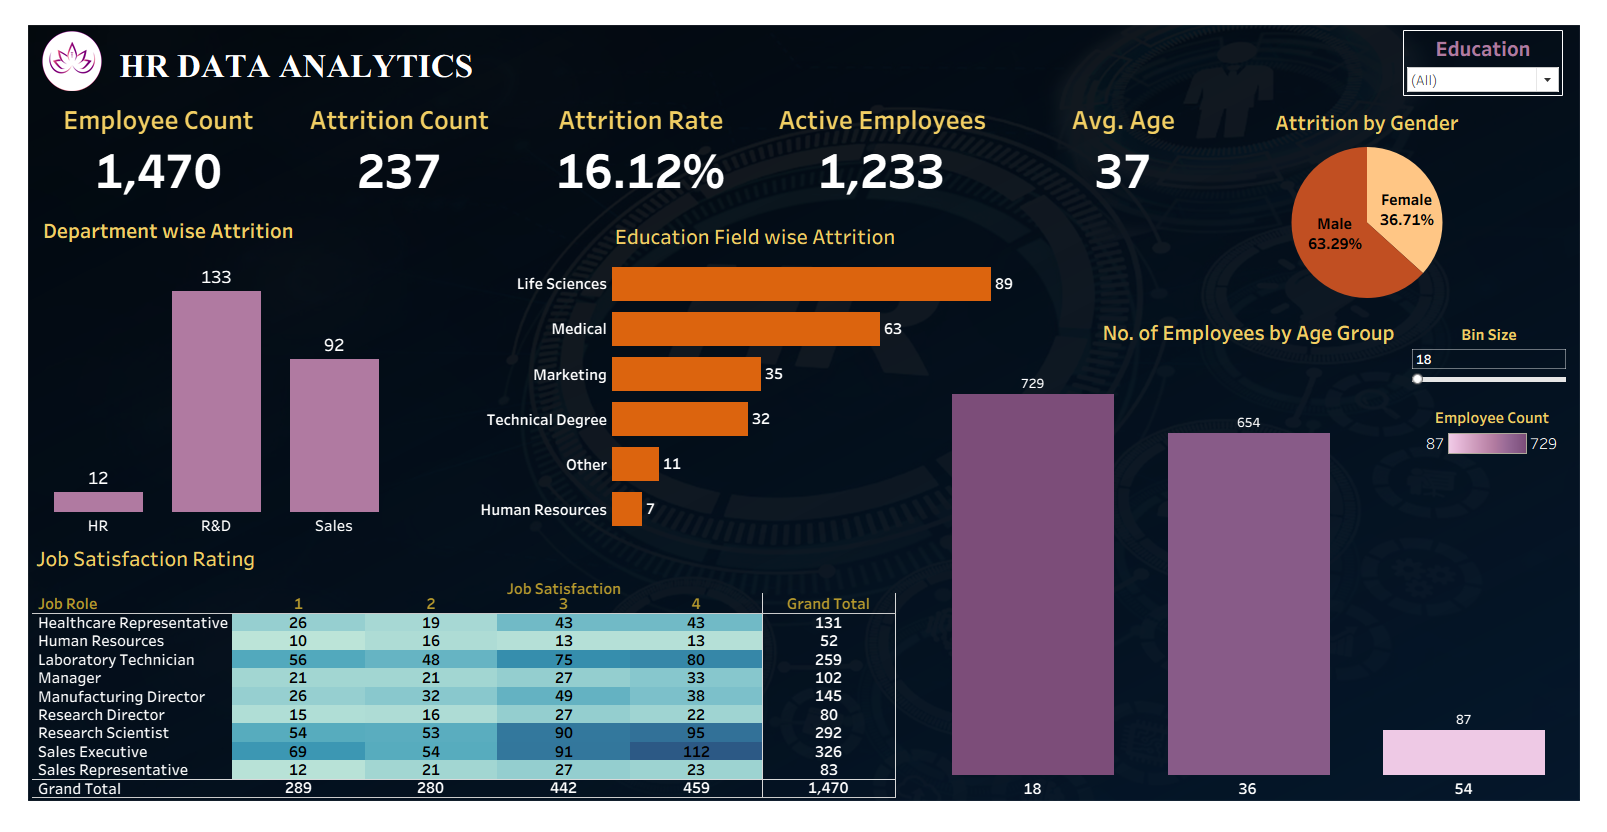

Layout of this report page (visuals, bound fields, positions):
{"tool":"tableau","page":{"name":"Dashboard 1","canvas":[1000,1000],"units":"permille","ordinal":0},"visuals":[{"type":"image","param":"Image/bg1.png","box":[5.2,10.2,989.6,979.6]},{"type":"image","param":"Image/logo.png","box":[9.5,21.2,55.1,76.2]},{"type":"filter","title":"Department wise Attrition","param":"[federated.1mih5650cwixov158ot0y03tkkte].[none:Education:nk]","box":[879.1,21.2,101.3,82.5]},{"type":"text","box":[64.6,32.5,235.4,68.8]},{"type":"worksheet","title":"KPI","mark":"Automatic","box":[15.2,103.8,763.3,133.8]},{"type":"worksheet","title":"Attrition by Gender","mark":"Pie","box":[746.2,113.8,220.2,242.5]},{"type":"worksheet","title":"Department wise Attrition","mark":"Automatic","rows":["Calculation_1563312085716348928"],"cols":["Department"],"box":[15.8,248.8,224.7,406.2]},{"type":"worksheet","title":"Education Field wise Attrition","mark":"Automatic","rows":["Education Field"],"cols":["Calculation_1563312085716348928"],"box":[289.9,256.2,358.2,392.5]},{"type":"worksheet","title":"No. of Employees by Age Group","mark":"Automatic","rows":["Employee Count"],"cols":["Age (bin)"],"box":[576.6,376.2,409.5,607.5]},{"type":"parameter","param":"[Parameters].[Parameter 1]","box":[882.9,388.8,101.3,88.8]},{"type":"legend","title":"No. of Employees by Age Group","param":"[federated.1mih5650cwixov158ot0y03tkkte].[sum:Employee Count:qk]","box":[891.1,492.5,88.6,110]},{"type":"worksheet","title":"Job Satisfaction Rating","mark":"Square","rows":["Job Role"],"cols":["Job Satisfaction"],"box":[11.4,658.8,546.8,322.5]}]}

Visuals, with their boxes on the dashboard's canvas, which has no fixed pixel size, in thousandths of its width and height (x1, y1, x2, y2). These are canvas units, not pixel positions in the 1607x832 screenshot, which may show the page scaled, cropped or inside an application window:
image: 5, 10, 995, 990
image: 10, 21, 65, 97
"Department wise Attrition" filter: 879, 21, 980, 104
text: 65, 32, 300, 101
"KPI" worksheet: 15, 104, 778, 238
"Attrition by Gender" worksheet (Pie marks): 746, 114, 966, 356
"Department wise Attrition" worksheet: 16, 249, 240, 655
"Education Field wise Attrition" worksheet: 290, 256, 648, 649
"No. of Employees by Age Group" worksheet: 577, 376, 986, 984
parameter: 883, 389, 984, 478
"No. of Employees by Age Group" legend: 891, 492, 980, 602
"Job Satisfaction Rating" worksheet (Square marks): 11, 659, 558, 981
